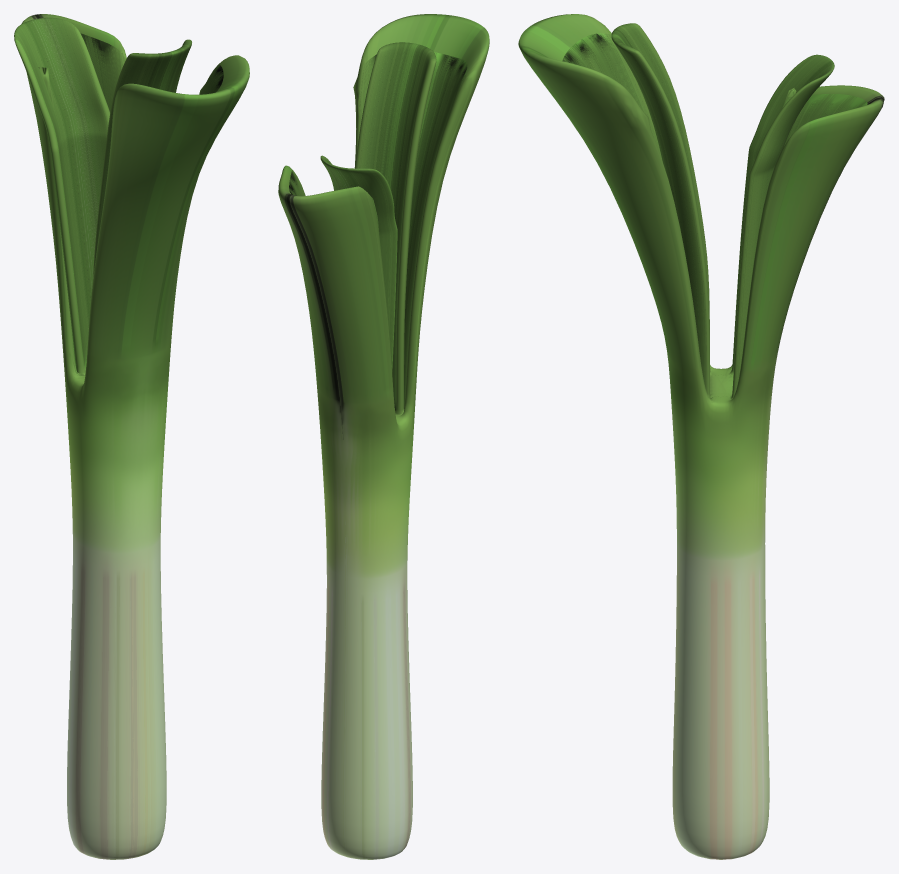
Rendered from secondleek.obj.
3 views of the same model, side by side, from view 1: azimuth 30°, elevation 25°; view 2: azimuth 150°, elevation 25°; view 3: azimuth 270°, elevation 25° (orthographic). The views are drawn at different scales.
Visible parts, largest first — view 1: Cylinder; view 2: Cylinder; view 3: Cylinder.
Part boxes in pixels (box(x1,y1,x2,y2)): Cylinder: box(14, 14, 249, 859); Cylinder: box(278, 14, 489, 859); Cylinder: box(518, 14, 884, 859).
Bounding box in the file's own units: 2.6 × 17.4 × 7.12.
